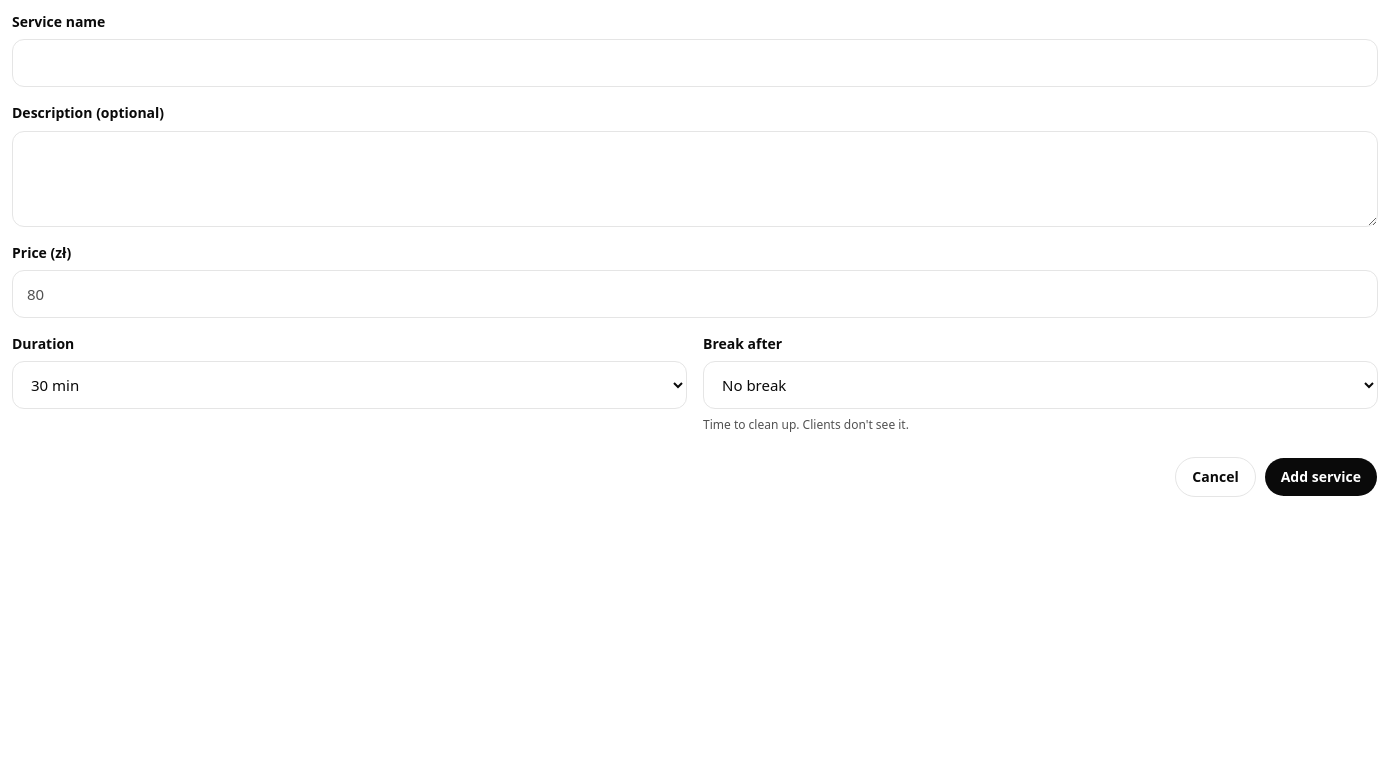
Scenario: OfferingForm › shows validation errors without submitting
This screenshot has width=1390, height=780.
In the field labelled "Price (zł)": (695, 294) [12, 270, 1378, 318], type "80.505"
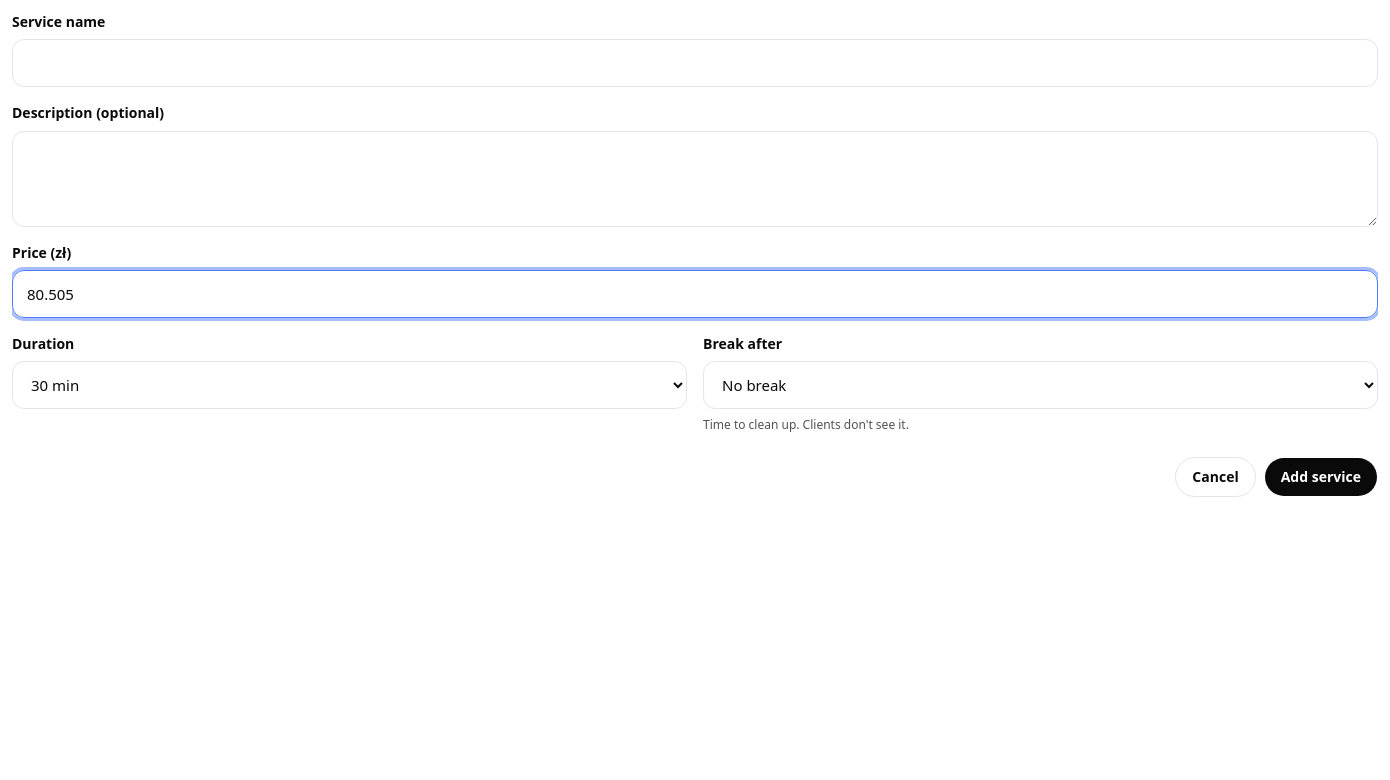
Click the button "Add service": (1321, 477) [1264, 457, 1378, 497]
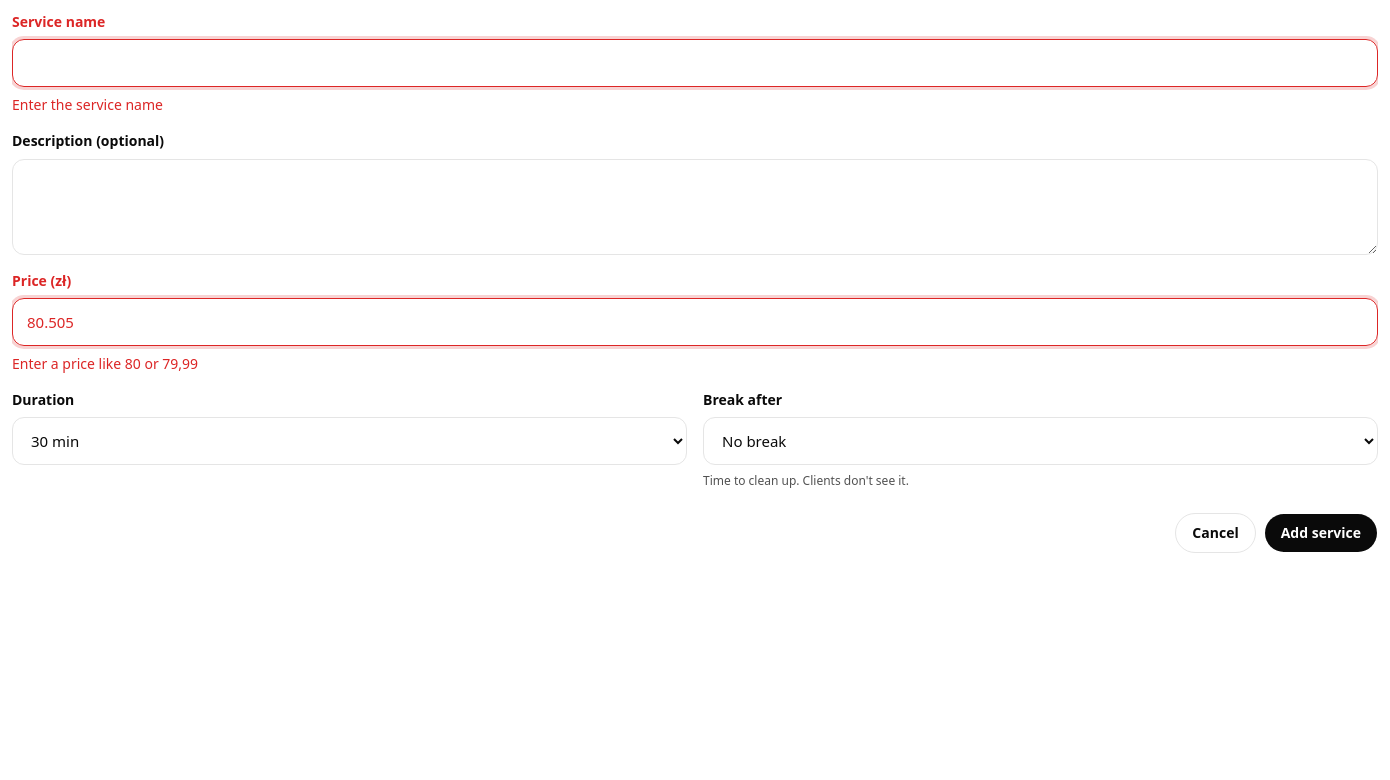
expect the text "Enter the service name" is shown: met, box [12, 95, 163, 114]
expect the text "Enter a price like 80 or 79,99" is shown: met, box [12, 354, 198, 373]
